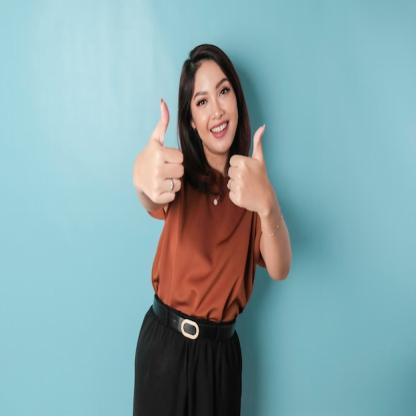thumb_up: (134, 97, 185, 208), (224, 118, 273, 220)
